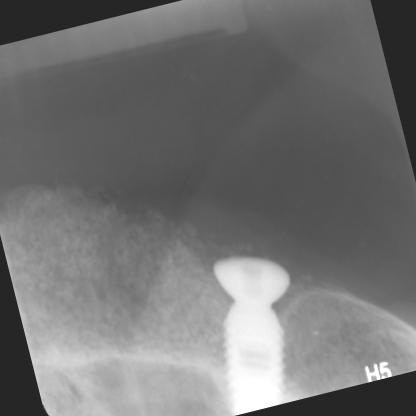Bicon: (192, 238, 320, 416)
